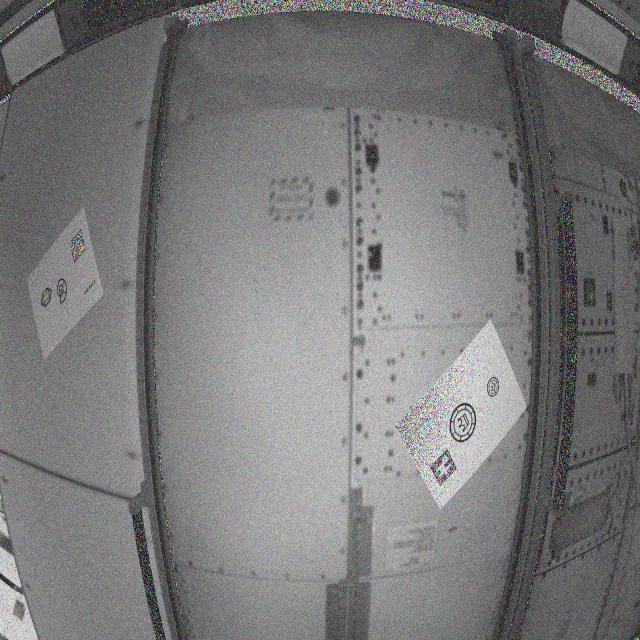coin: (447, 400, 481, 448), (485, 374, 502, 401)
crystal: (39, 287, 57, 307)
fossil: (57, 278, 71, 306)
